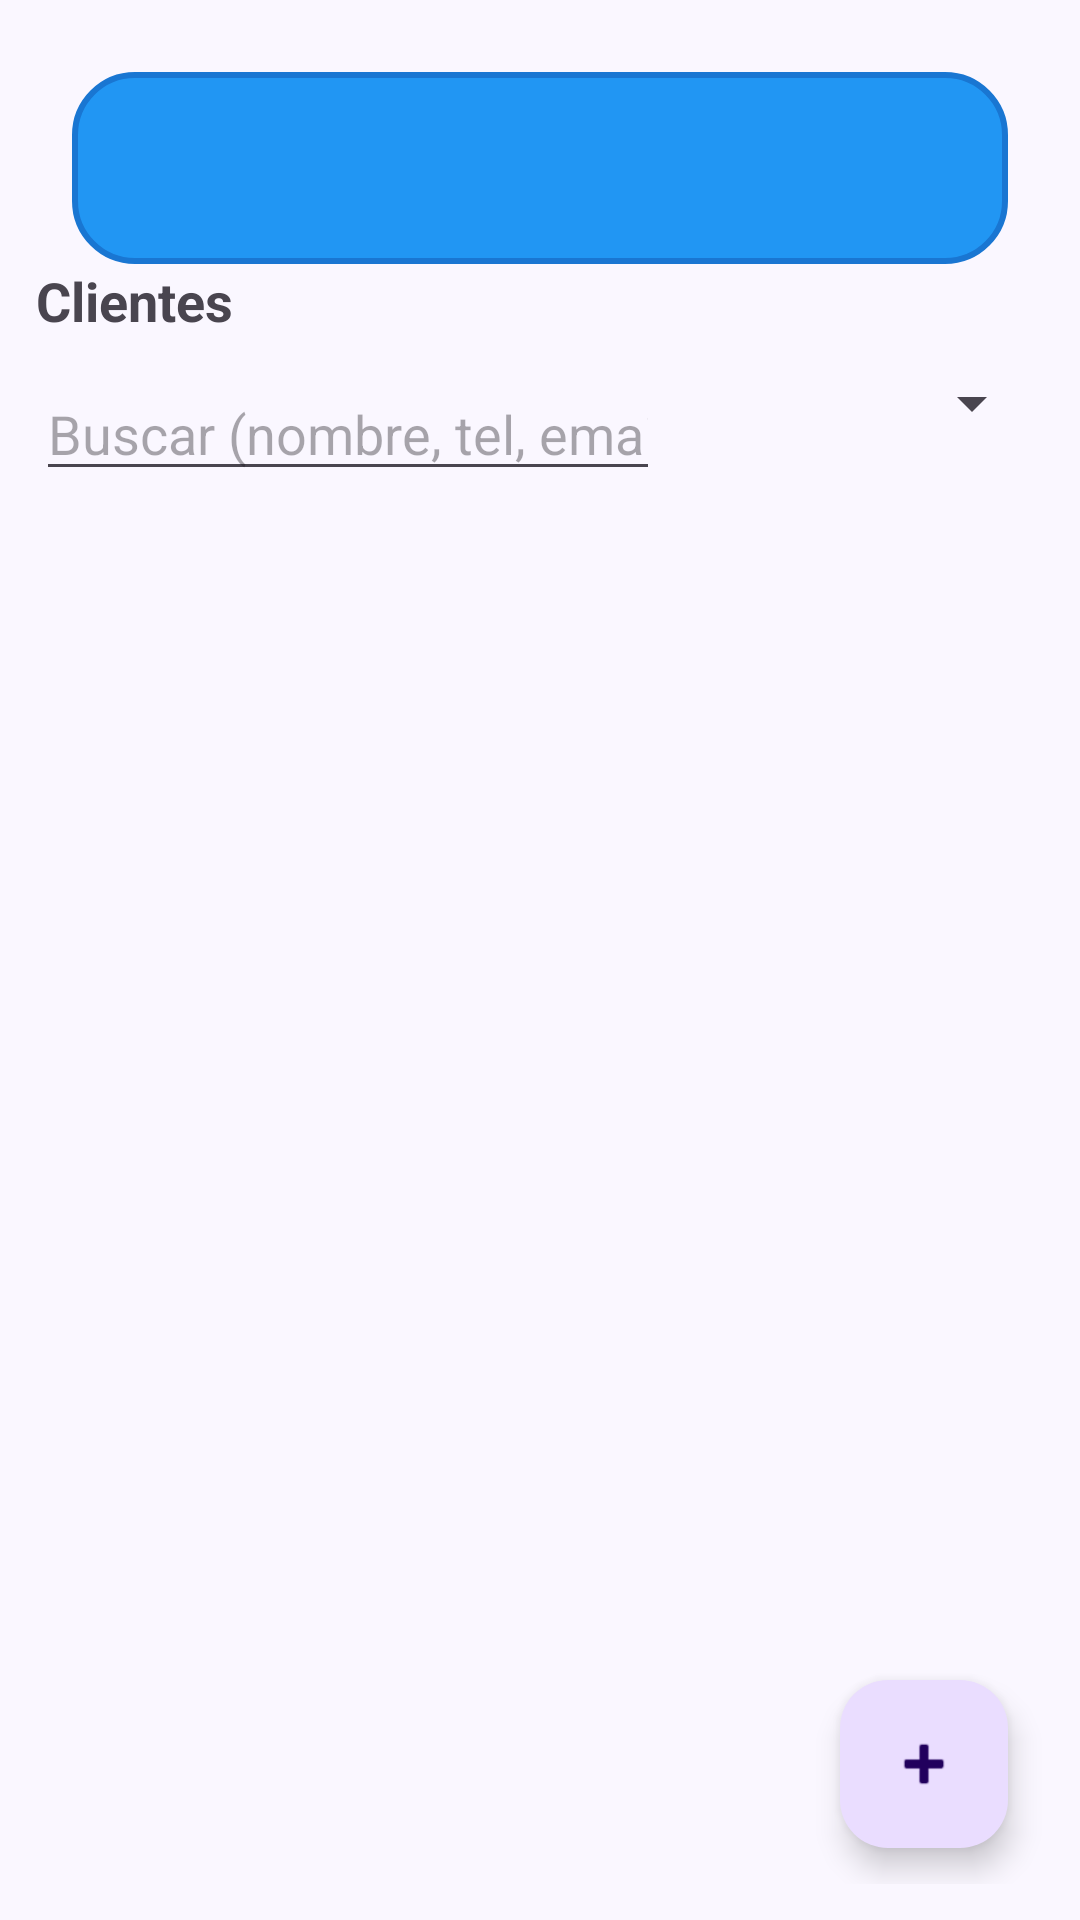

Locate icon controls on the screen. Image size 1080px×1920px, boxes as {"left": x1, "top": y1, "right": x2, "bottom": y2}.
Nuevo cliente: {"left": 840, "top": 1680, "right": 1008, "bottom": 1848}
